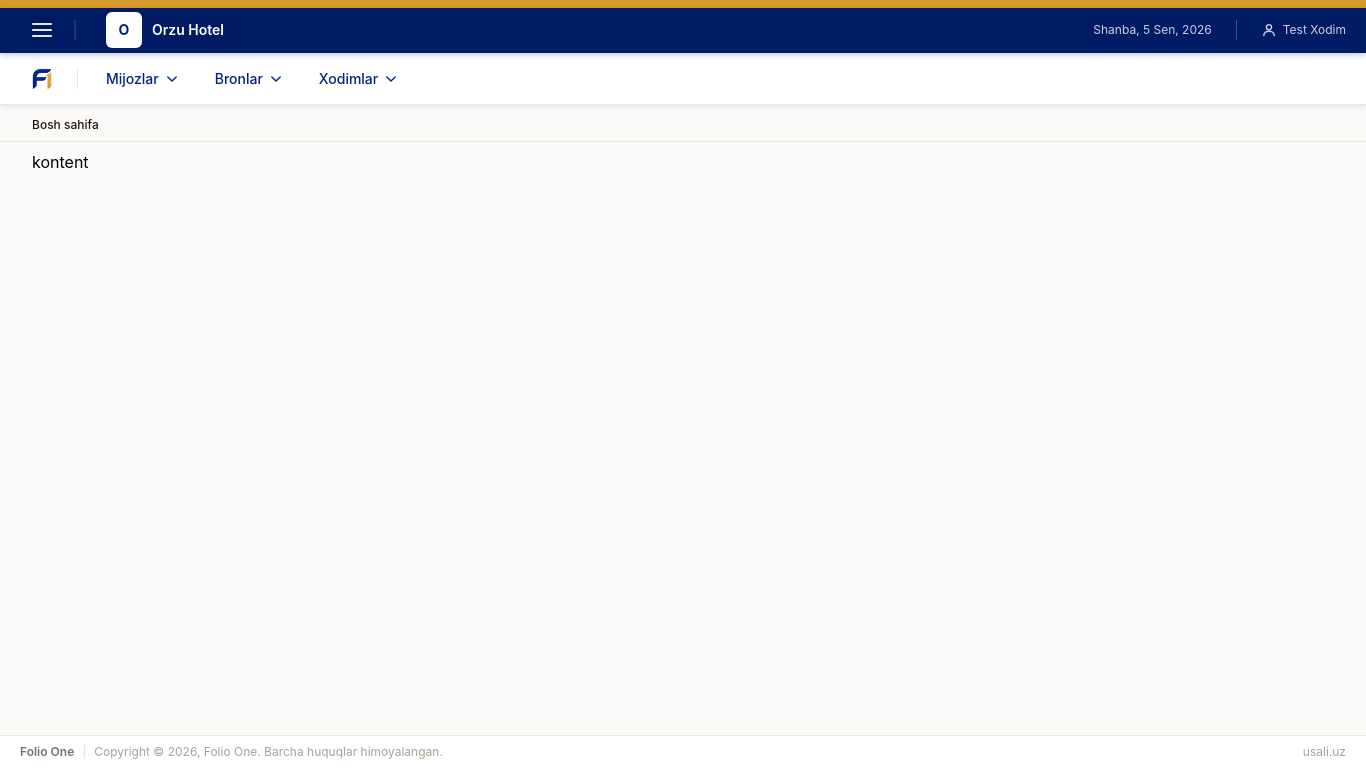
AppLayout — chap paneldagi sozlamalar menyusi › to'liq ruxsatli egada ikkala guruh ham to'liq chiqadi
The image size is (1366, 768).
Click the button named "Menyuni ochish". click: [42, 30]
box: [12, 12, 73, 48]
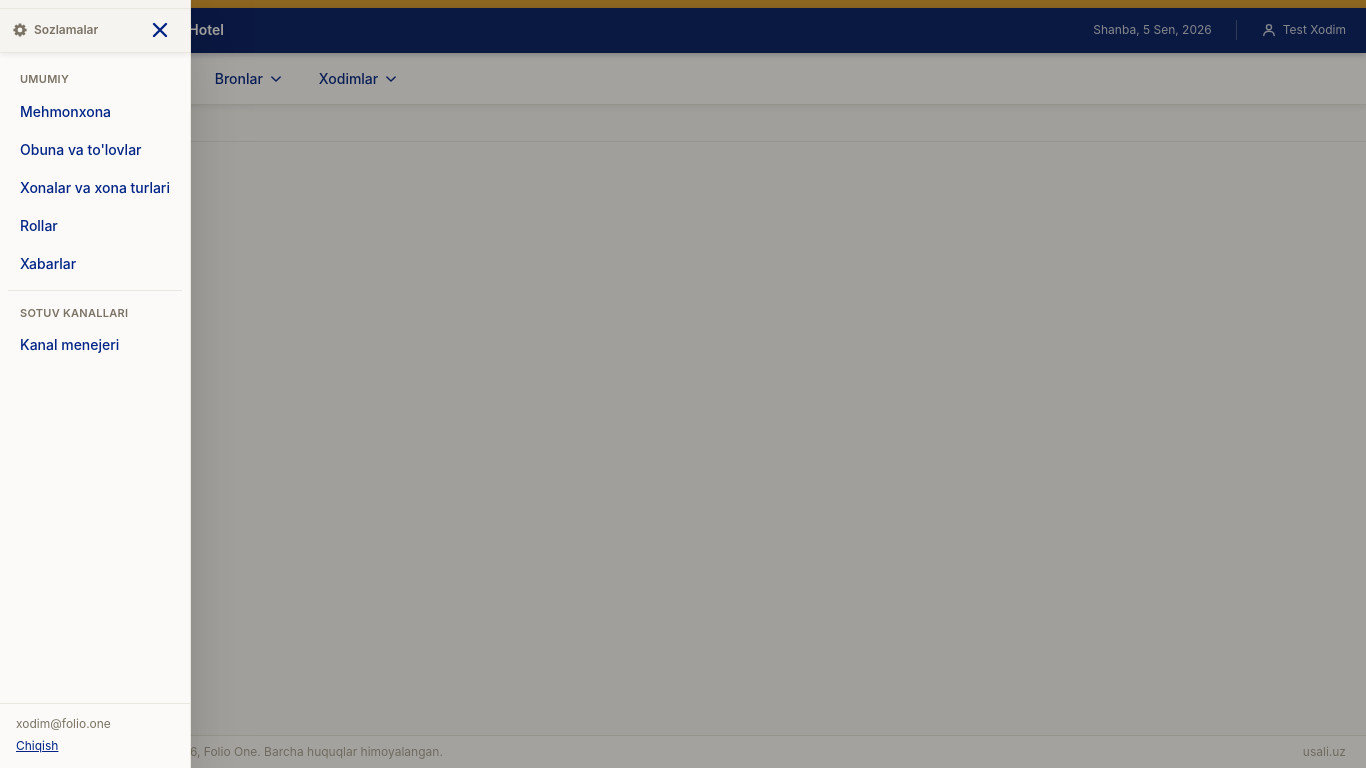
Result: the text "Umumiy" is shown at [20, 72, 69, 86]
Result: the text "Sotuv kanallari" is shown at [20, 306, 128, 320]
Result: the link "Mehmonxona" is shown at [20, 103, 111, 120]
